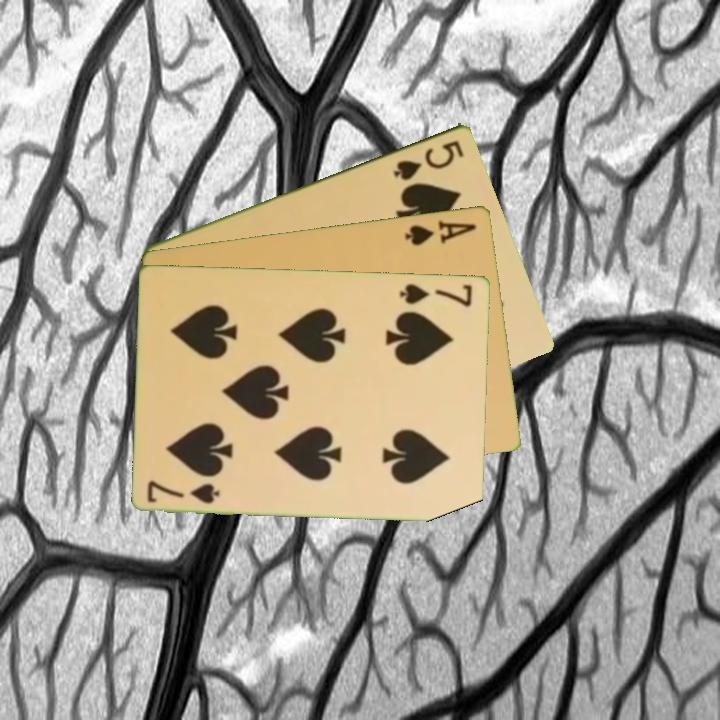5s: (390, 136, 467, 183)
7s: (144, 476, 223, 506), (397, 280, 475, 310)
As: (402, 216, 480, 248)
